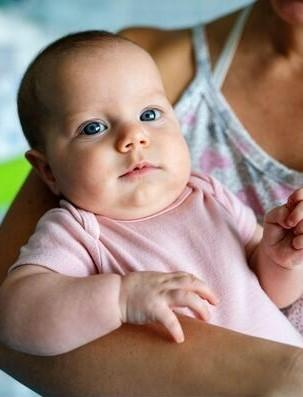Healthy: (13, 22, 195, 226)
